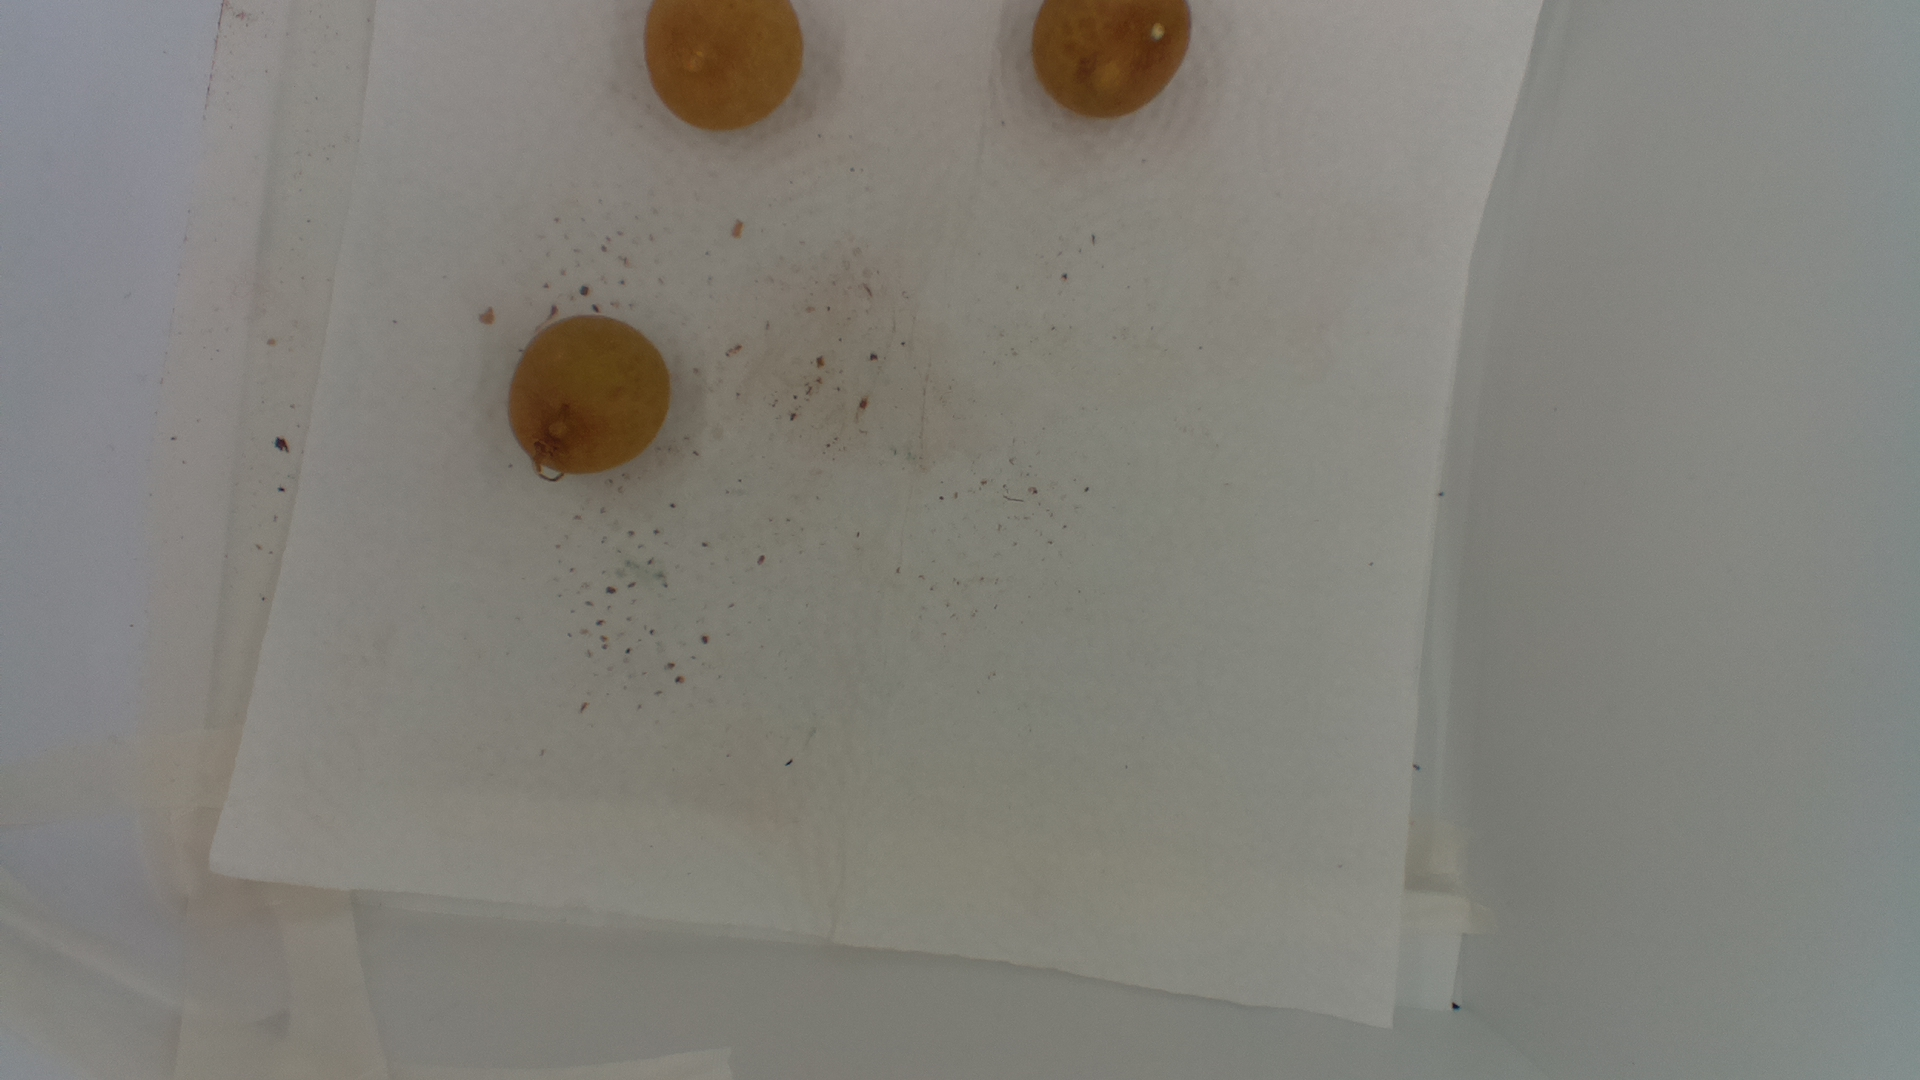fruit: (508, 309, 671, 480), (640, 1, 808, 135), (1029, 1, 1197, 120)
